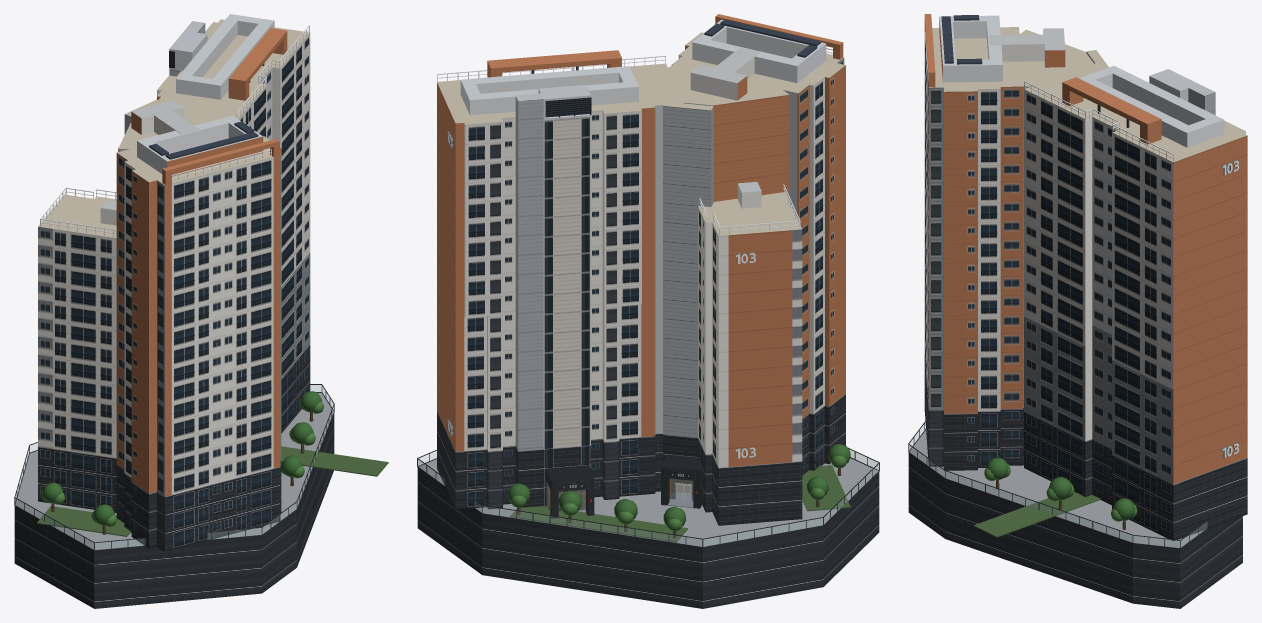
The model's file is place_금파힐103.glb.
3 renders of one model, left to right at view 1: azimuth 30°, elevation 25°; view 2: azimuth 150°, elevation 25°; view 3: azimuth 270°, elevation 25°, orthographic. The views are drawn at different scales.
Parts seen in each view (by area): view 1: WingC_South_20F, KumhoParkHills_103, WingB_NW_15F, WingA_NE_20F; view 2: WingA_NE_20F, KumhoParkHills_103, WingB_NW_15F, WingC_South_20F; view 3: WingA_NE_20F, WingC_South_20F, KumhoParkHills_103.
Boxes of the visible parts, x1,y1,x2,y2 form: WingC_South_20F: [116, 100, 281, 551]; KumhoParkHills_103: [14, 99, 388, 608]; WingB_NW_15F: [38, 187, 116, 512]; WingA_NE_20F: [157, 14, 310, 433]; WingA_NE_20F: [437, 50, 683, 518]; KumhoParkHills_103: [417, 65, 879, 608]; WingB_NW_15F: [698, 181, 802, 525]; WingC_South_20F: [671, 14, 845, 475]; WingA_NE_20F: [1024, 63, 1247, 541]; WingC_South_20F: [924, 14, 1065, 470]; KumhoParkHills_103: [908, 29, 1242, 608].
Bounding box in the file's own units: 52.73 × 64.35 × 43.06.
192 materials, 87 textured.
